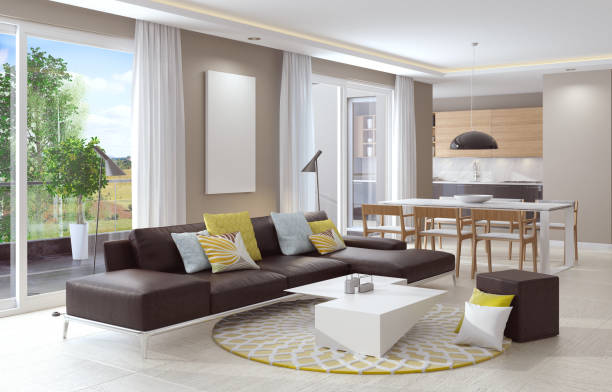dining table set: (359, 192, 580, 278)
floor lamp: (301, 147, 324, 211)
large plant: (44, 135, 106, 260)
sofa: (57, 209, 458, 363)
table: (282, 270, 449, 359)
wall art: (202, 65, 259, 196)
